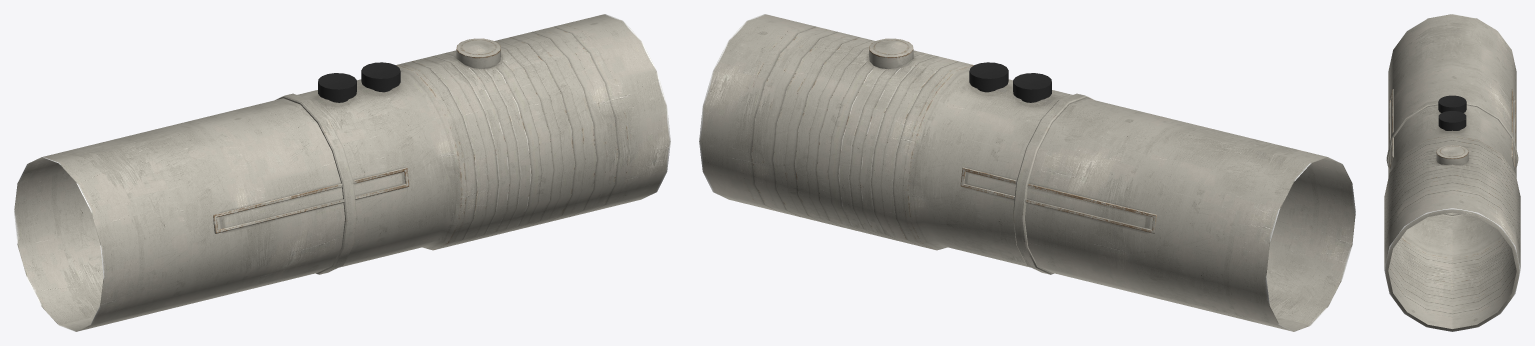
The model's file is grip_14_c_d.glb.
The picture shows the model from 3 angles, left to right: view 1: azimuth 30°, elevation 25°; view 2: azimuth 150°, elevation 25°; view 3: azimuth 270°, elevation 25°; orthographic projection. The views are drawn at different scales.
Parts seen in each view (by area): view 1: grip_14_c_d_lod0; view 2: grip_14_c_d_lod0; view 3: grip_14_c_d_lod0.
Part boxes in pixels (x1,y1,x2,y2): grip_14_c_d_lod0: (14,14,670,331); grip_14_c_d_lod0: (699,14,1355,331); grip_14_c_d_lod0: (1384,14,1520,331).
Size of what is drawn, in the model's own units: 0.1041 by 0.0321 by 0.0302.
1 material, 1 textured.
